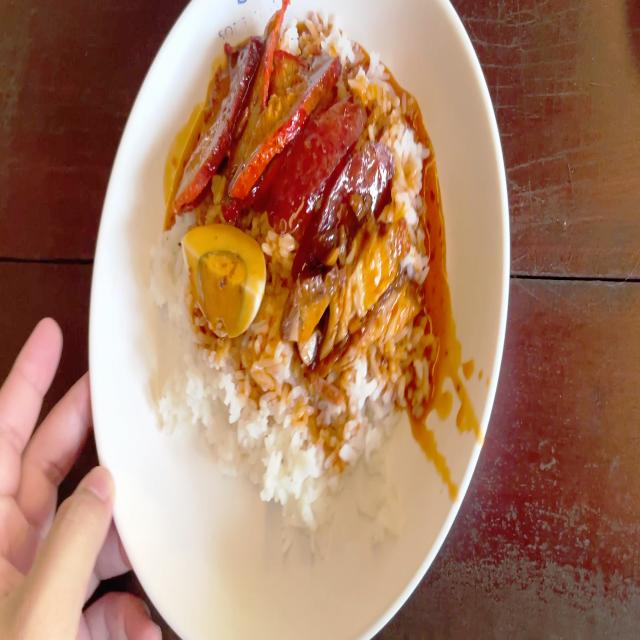boiled_egg: (193, 234, 260, 332)
chainese_sausage: (286, 122, 368, 242)
crispy_pork: (311, 237, 410, 307)
red_pork: (173, 34, 291, 200), (229, 0, 336, 112)
red_pork_and_crispy_pork: (164, 64, 446, 483)
rice: (290, 396, 409, 508), (220, 347, 284, 514), (157, 231, 190, 355)
